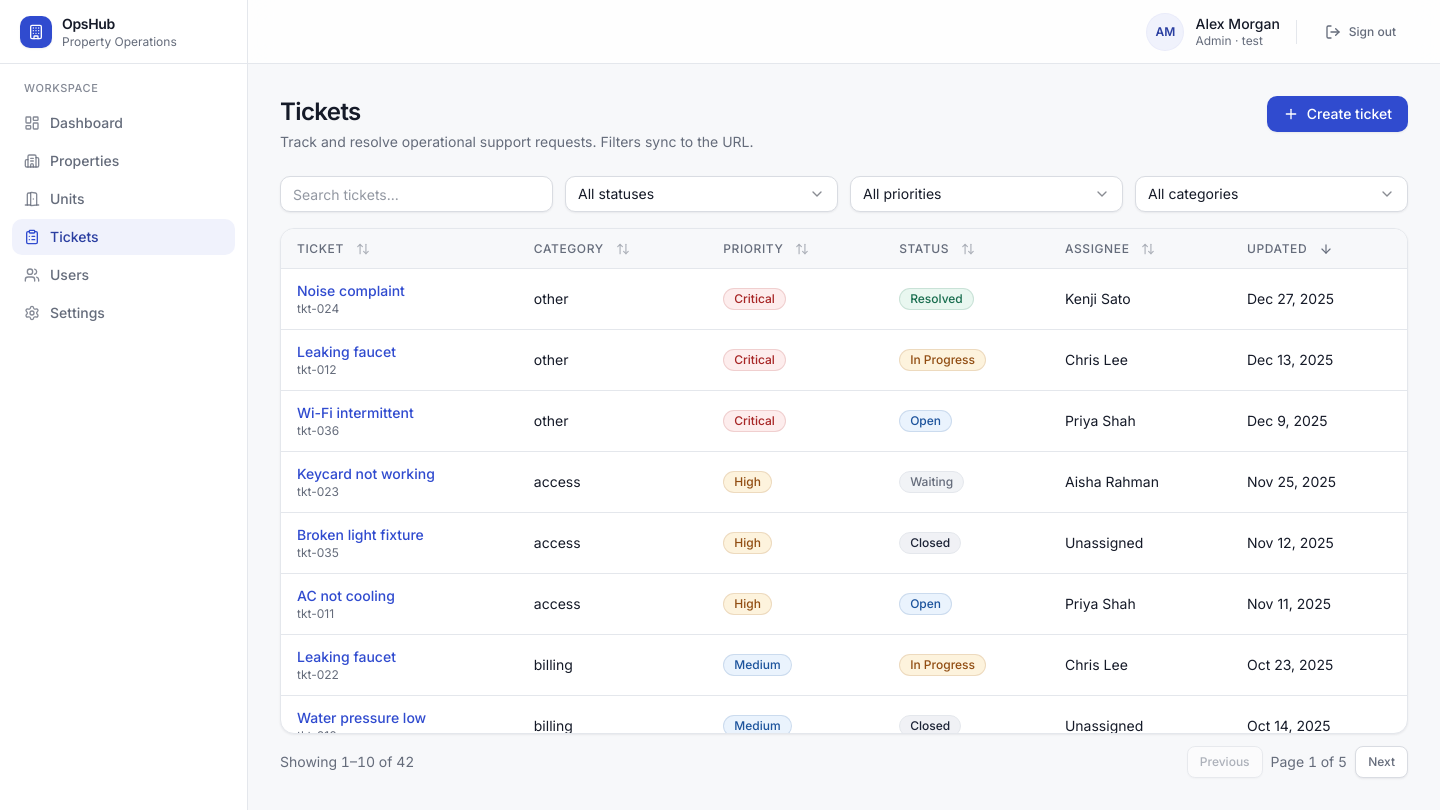
Test: Ticket creation flow › creates a ticket successfully and closes the dialog
Expected: the heading "Tickets" is shown, [280,97,361,126]
Click the button "Create ticket".
click(1337, 114)  # box [1267,96,1408,132]
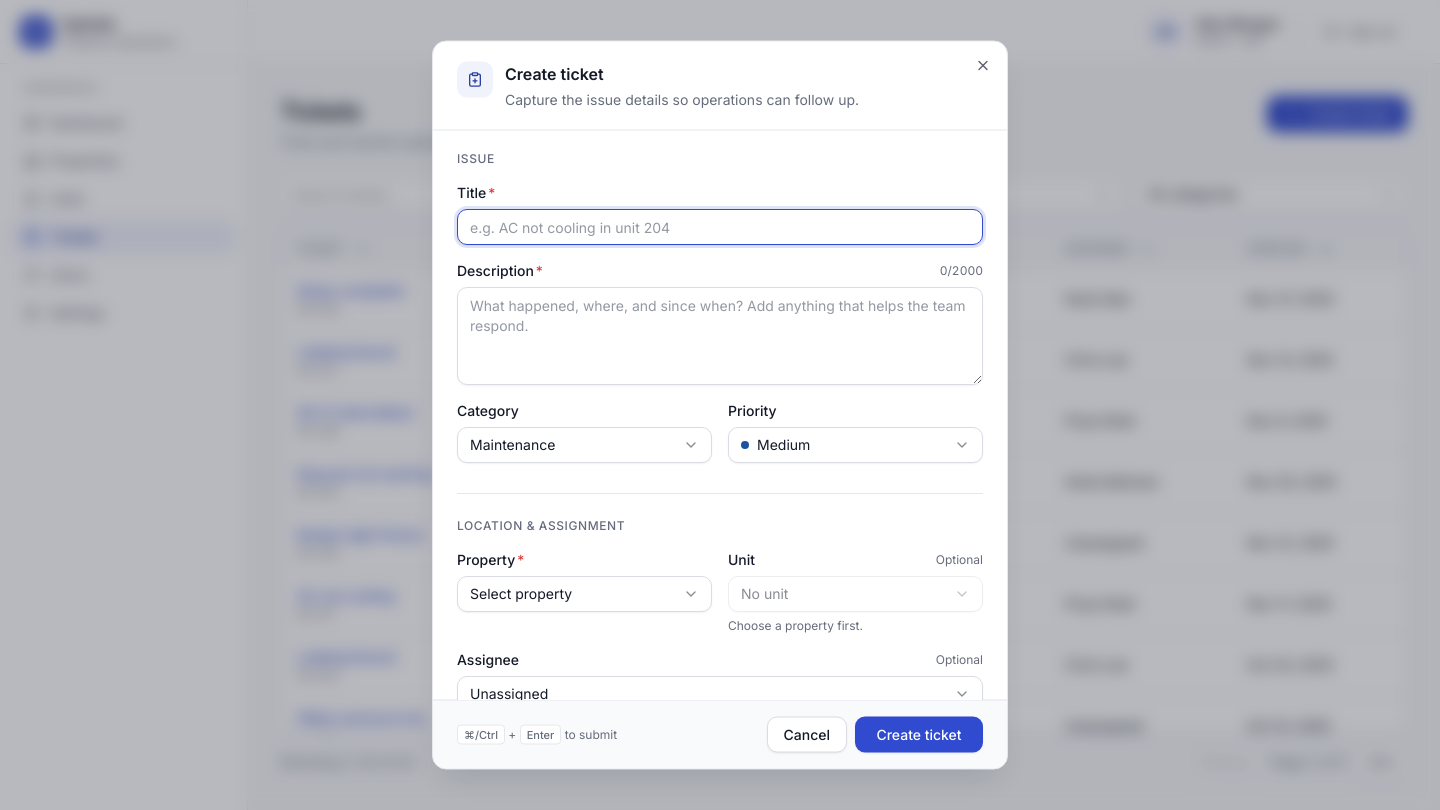
Expected: the dialog is shown, [432,40,1008,770]
Type "Broken thermostat" into the field labelled "Title".
click(720, 226); type("Broken thermostat")  # box [457,208,983,244]
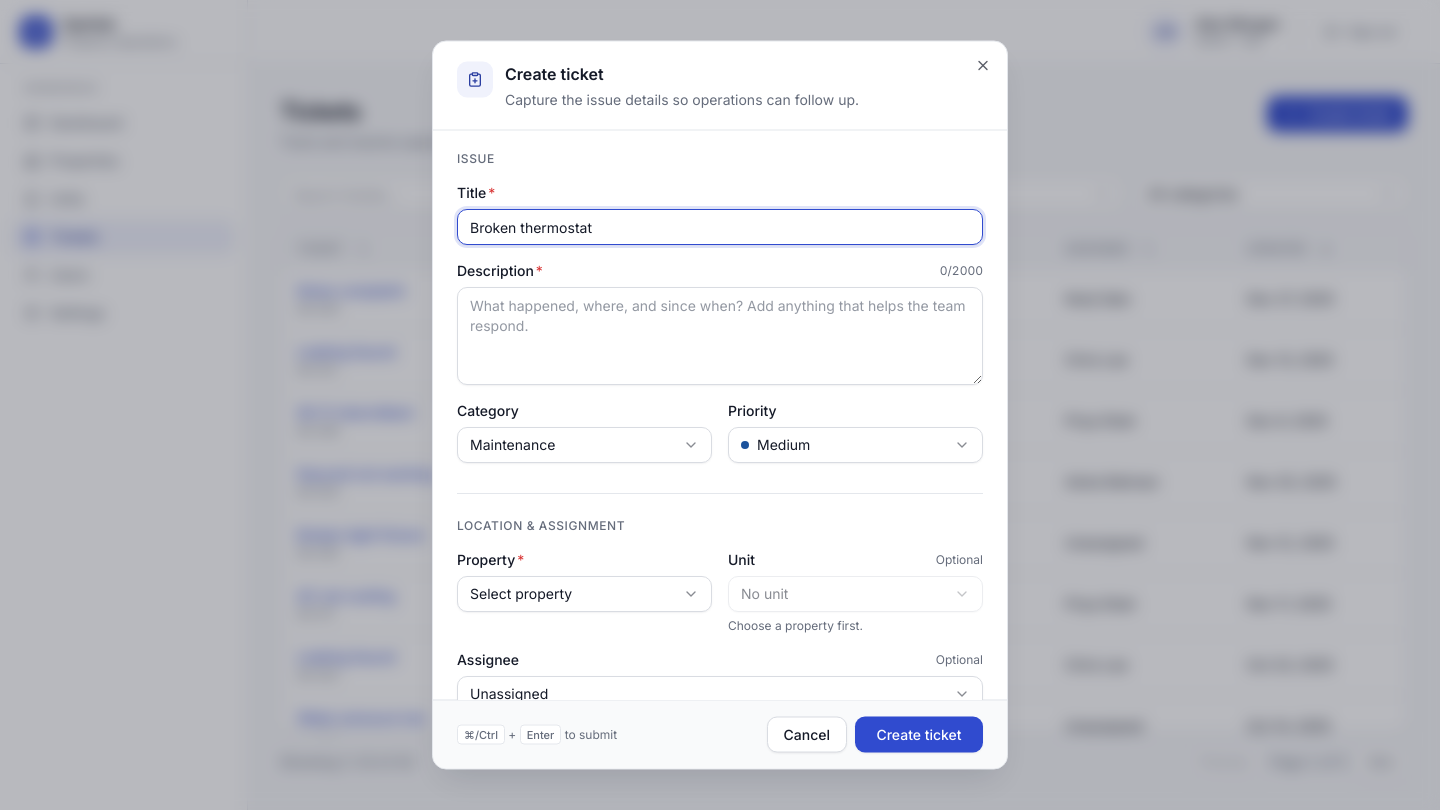
Type "Temperature control is not responding in the unit." into the text box labelled "Description".
click(720, 336); type("Temperature control is not responding in the unit.")  # box [457,286,983,384]
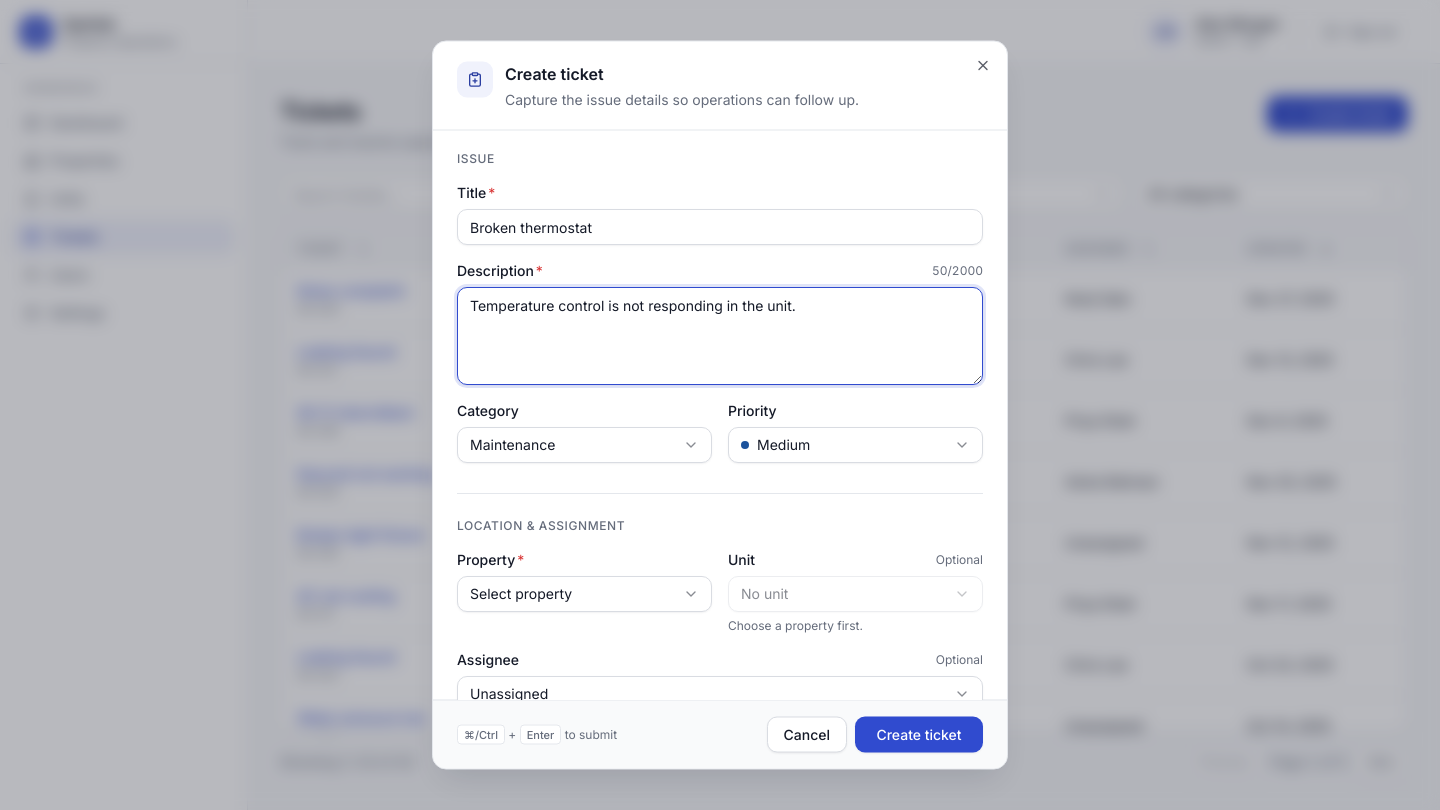
Click the dropdown labelled "property".
click(584, 594)  # box [457,576,712,612]
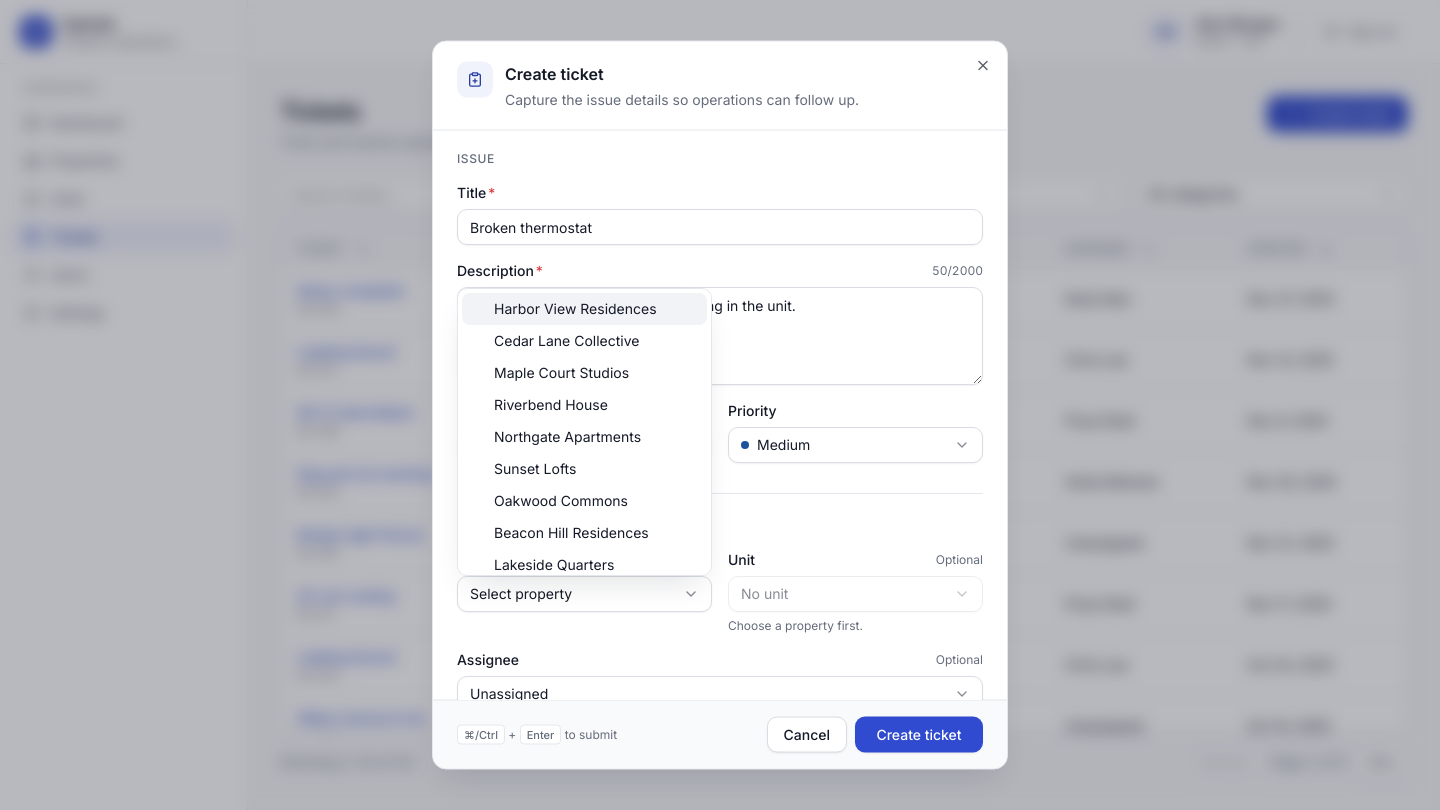
Click the option "Harbor View Residences".
click(584, 309)  # box [462,293,707,325]
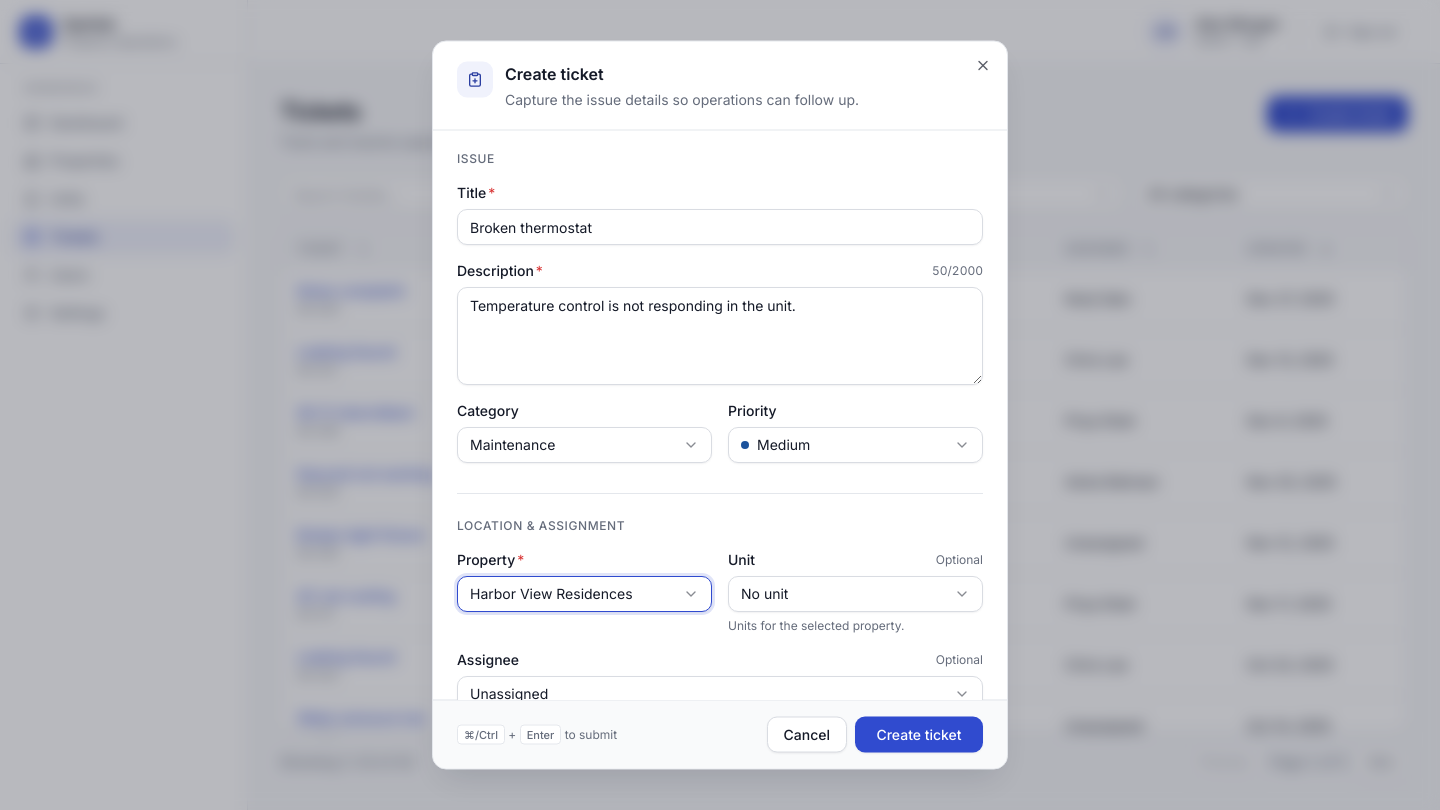
Click the button "Create ticket".
click(919, 734)  # box [855,716,983,752]
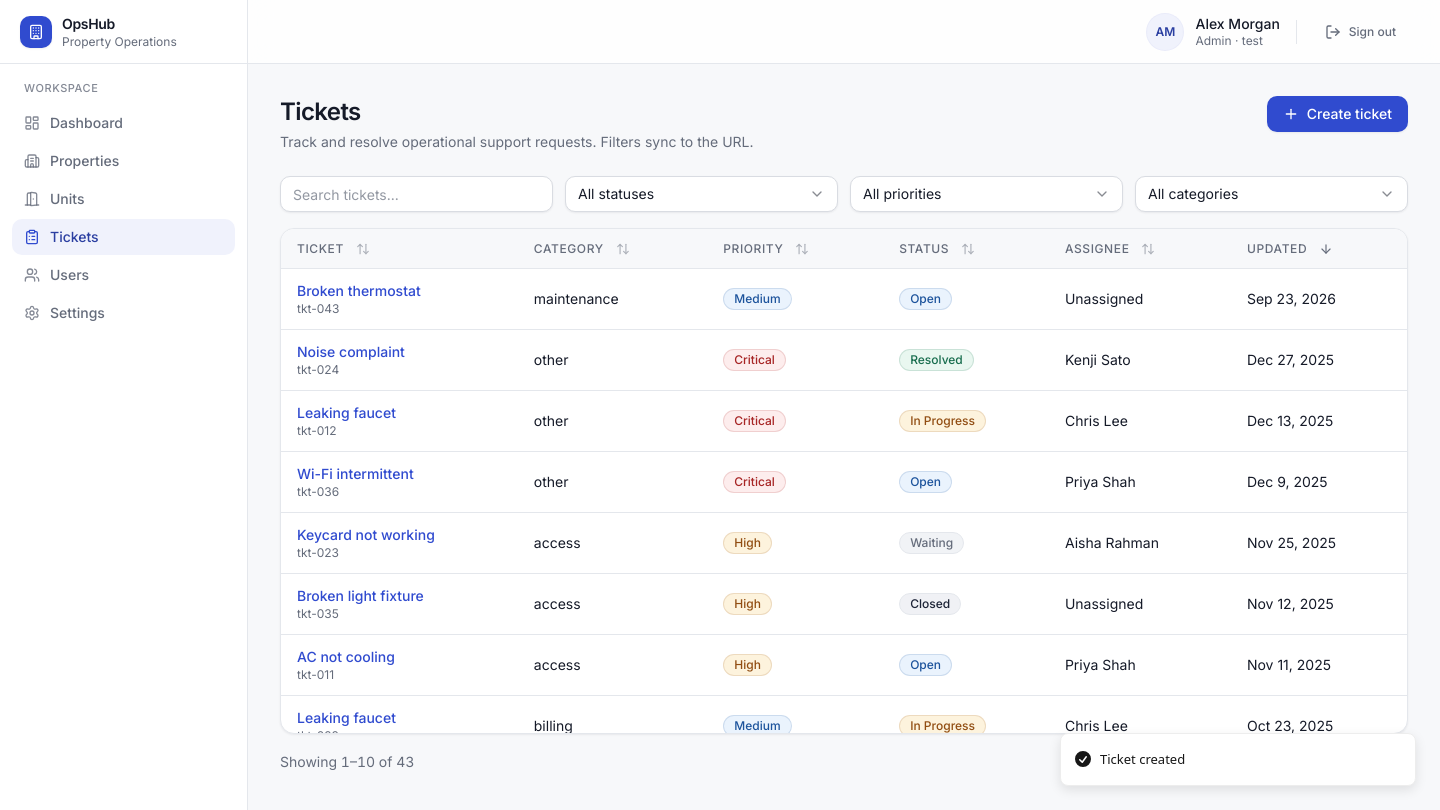
Expected: the dialog is gone
Expected: the link "Broken thermostat" is shown, [297,282,421,299]
Expected: the text "Ticket created" is shown, [1100,750,1185,769]
